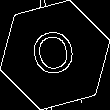O_S: (28, 25, 82, 85)
